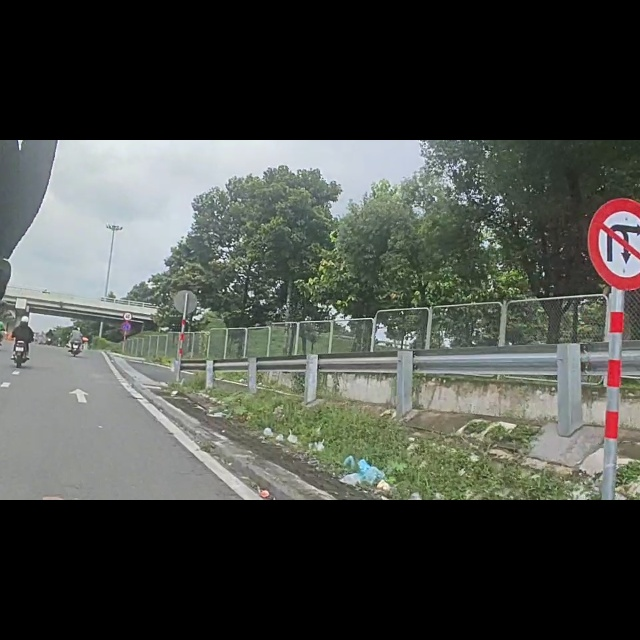bien_cam: (586, 102, 640, 269), (123, 305, 134, 321), (121, 324, 131, 341)
